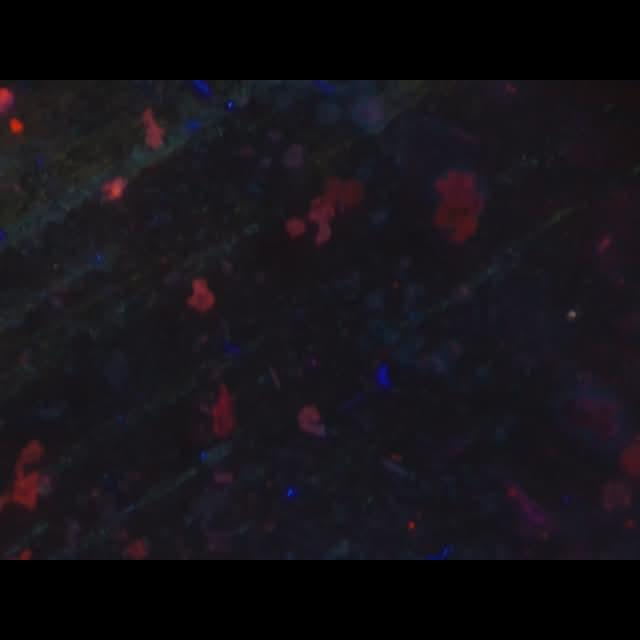Fragment: (185, 274, 215, 314)
